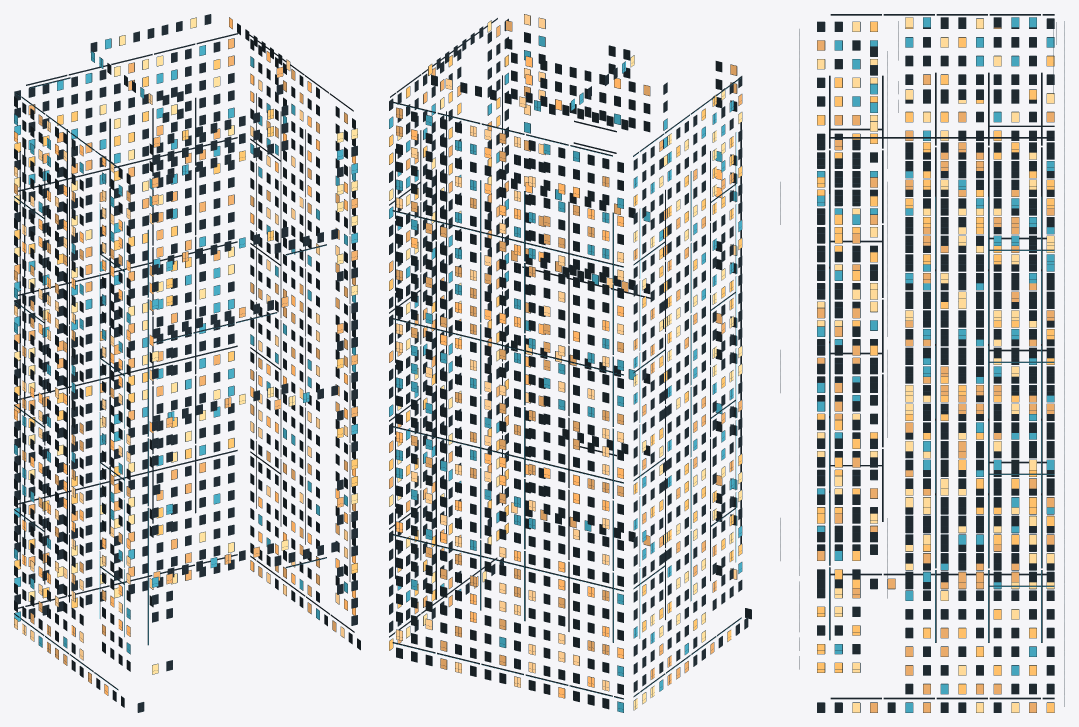
File: runtime-facade-building-141.glb
The picture shows the model from 3 angles, left to right: view 1: azimuth 30°, elevation 25°; view 2: azimuth 150°, elevation 25°; view 3: azimuth 270°, elevation 25°; orthographic projection. The views are drawn at different scales.
Parts seen in each view (by area): view 1: Facade fittings / building-141; view 2: Facade fittings / building-141; view 3: Facade fittings / building-141.
Boxes of the visible parts, left/top/right/bottom form: Facade fittings / building-141: left=14, top=14, right=360, bottom=712; Facade fittings / building-141: left=389, top=14, right=751, bottom=712; Facade fittings / building-141: left=780, top=14, right=1064, bottom=712.
Size of the model in its own units: 59.81 by 137 by 57.97.
